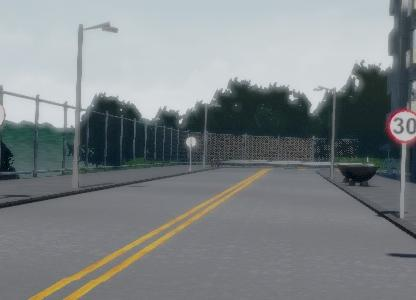Speed_30: (384, 106, 416, 146)
